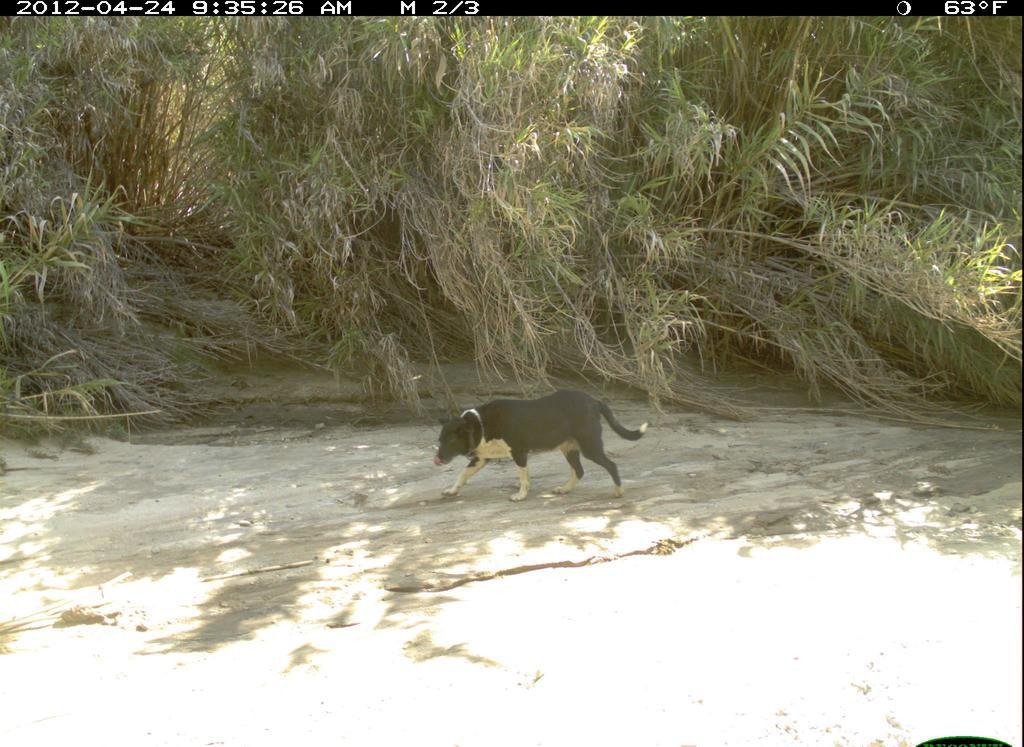dog: (427, 387, 657, 510)
